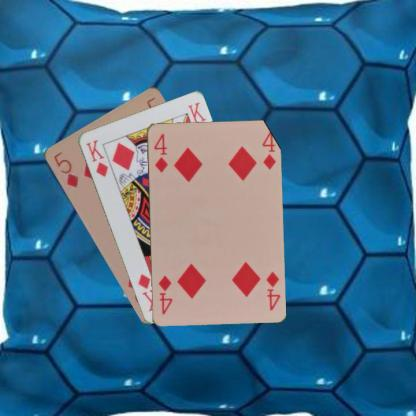4d: (263, 268, 281, 312), (151, 130, 169, 173)
5d: (50, 148, 80, 189)
Kd: (83, 137, 109, 178)
